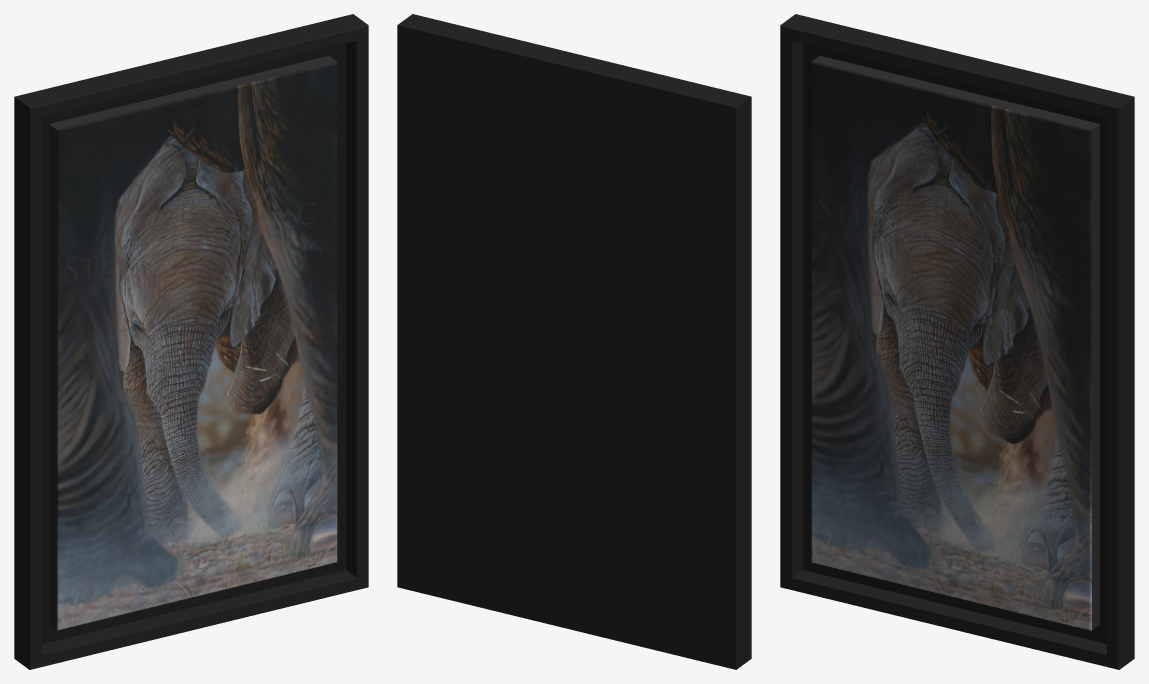
The model's file is tableau-elephanteau-realiste-classique-47f0db63.glb.
The picture shows the model from 3 angles, left to right: view 1: azimuth 30°, elevation 25°; view 2: azimuth 150°, elevation 25°; view 3: azimuth 330°, elevation 25°; orthographic projection.
Visible parts, largest first — view 1: Painting; view 2: Painting; view 3: Painting.
Part boxes in pixels (x1=…): Painting: x1=14, y1=14, x2=368, y2=669; Painting: x1=397, y1=14, x2=751, y2=669; Painting: x1=780, y1=14, x2=1134, y2=669.
Size of the model in its own units: 0.496 by 0.786 by 0.04.
Materials: 4 (2 with a texture image).
